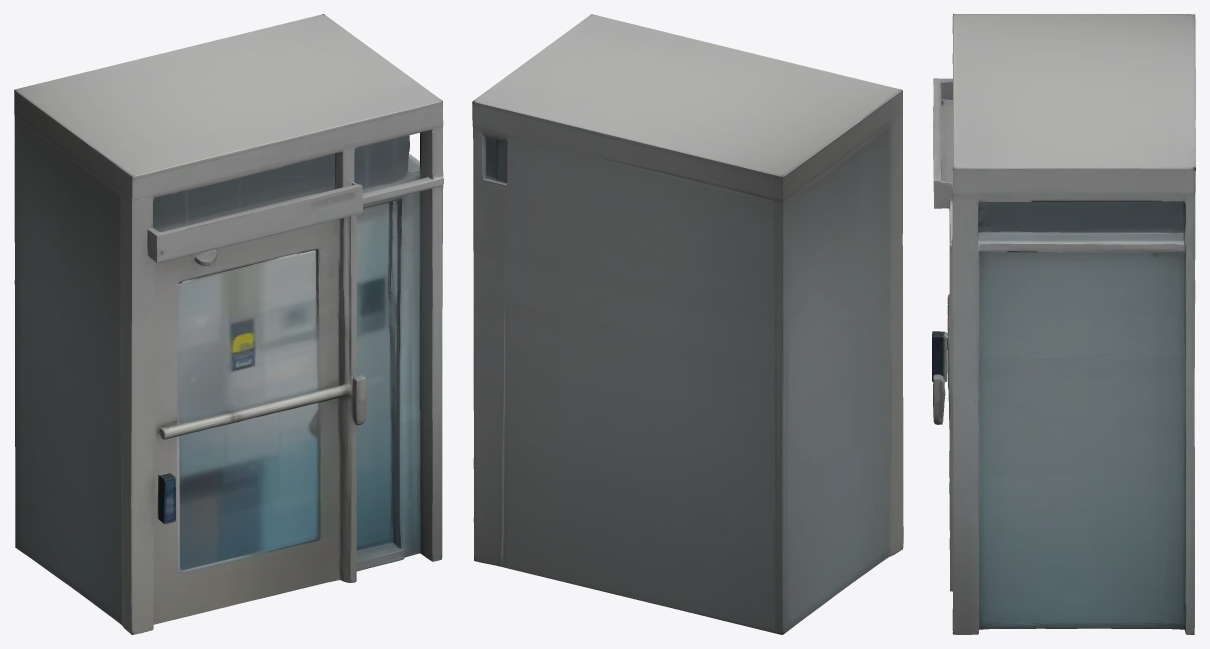
The model's file is frontdoor.glb.
3 renders of one model, left to right at view 1: azimuth 30°, elevation 25°; view 2: azimuth 150°, elevation 25°; view 3: azimuth 270°, elevation 25°, orthographic.
Parts seen in each view (by area): view 1: geometry_0; view 2: geometry_0; view 3: geometry_0.
Part boxes in pixels (bbox=[...]): geometry_0: bbox=[14, 14, 443, 634]; geometry_0: bbox=[472, 14, 903, 634]; geometry_0: bbox=[932, 14, 1195, 634].
Bounding box in the file's own units: 0.7106 × 1 × 0.5116.
Materials: 1 (1 with a texture image).
